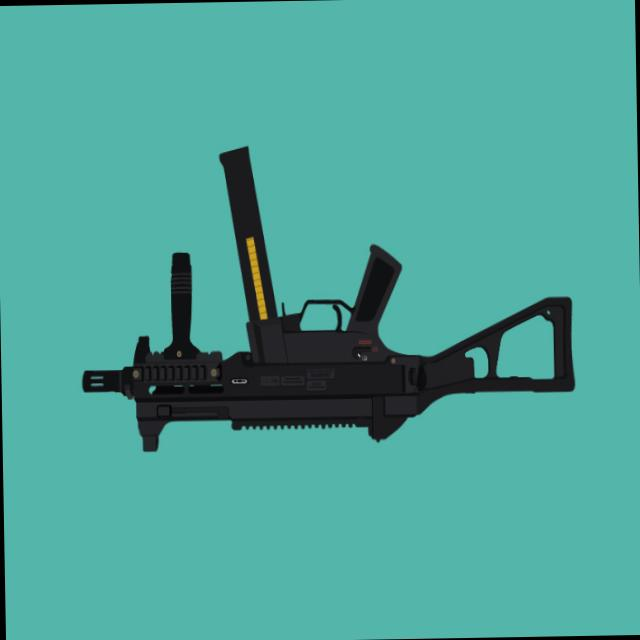Gun: (71, 116, 576, 486)
